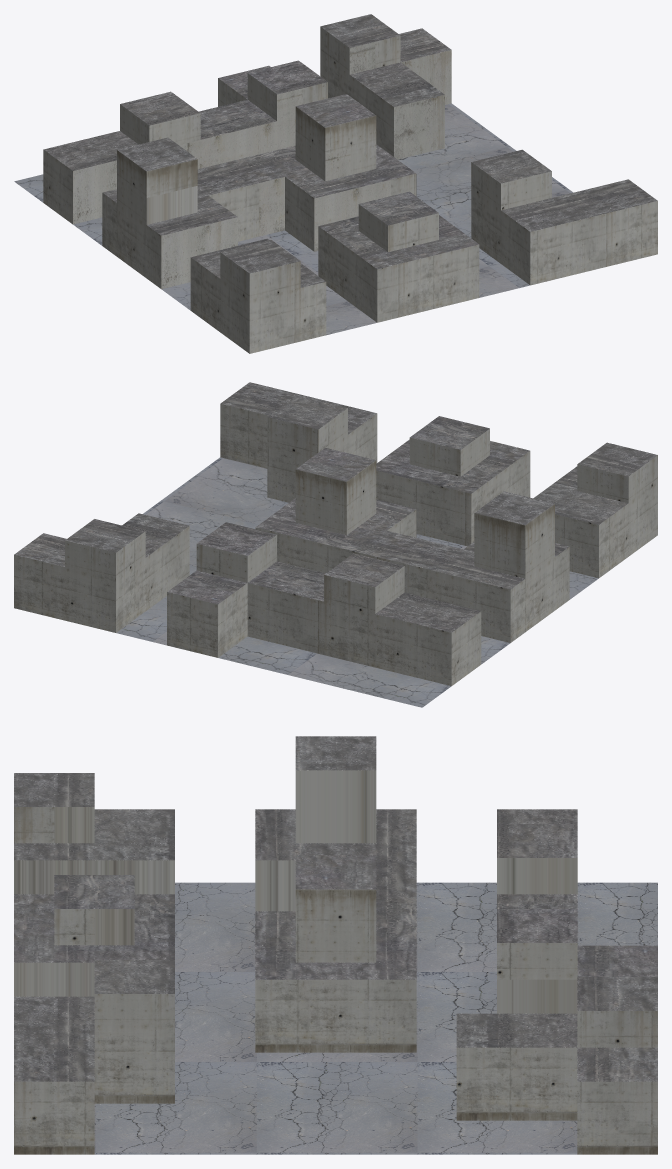
File: tile3.fbx
3 views of the same model, one above another, from view 1: azimuth 30°, elevation 25°; view 2: azimuth 150°, elevation 25°; view 3: azimuth 270°, elevation 25° (orthographic). The views are drawn at different scales.
Visible parts, largest first — view 1: Plane.001; view 2: Plane.001; view 3: Plane.001.
Boxes of the visible parts, bbox=[...] form: Plane.001: bbox=[14, 14, 657, 353]; Plane.001: bbox=[14, 382, 657, 707]; Plane.001: bbox=[14, 736, 657, 1154].
Size of the model in its own units: 1597 by 400 by 1597.
